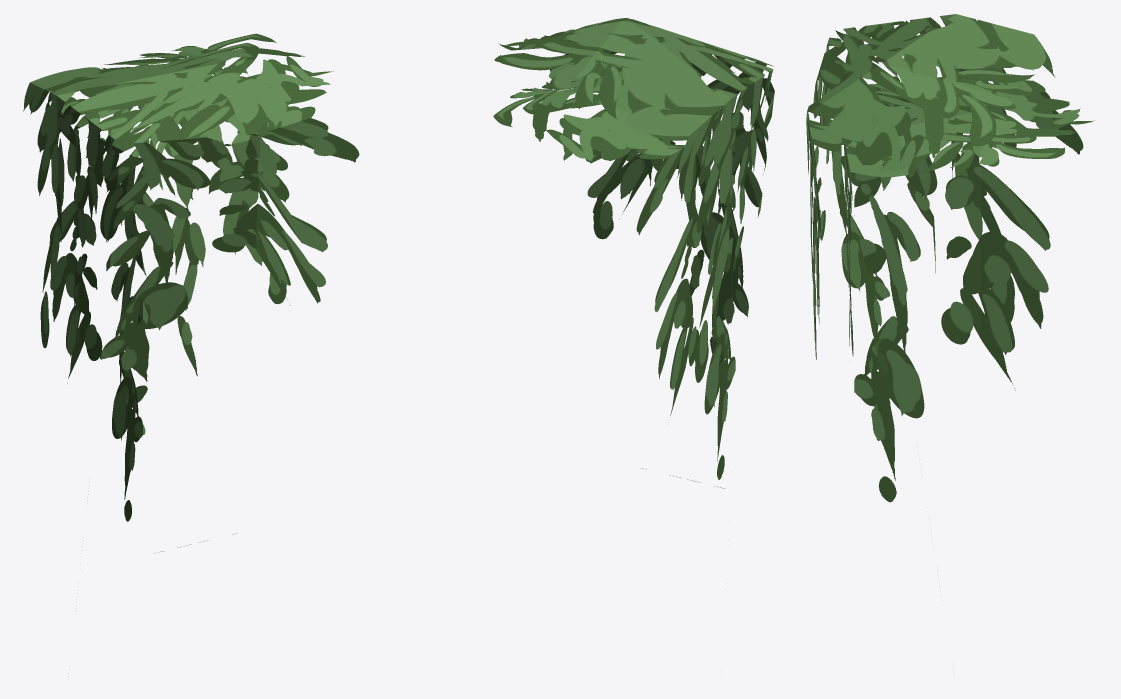
File: vine 5.fbx
3 views of the same model, side by side, from view 1: azimuth 30°, elevation 25°; view 2: azimuth 150°, elevation 25°; view 3: azimuth 270°, elevation 25° (orthographic). The views are drawn at different scales.
Parts seen in each view (by area): view 1: Plane.036, Plane.034; view 2: Plane.036, Plane.034; view 3: Plane.034, Plane.036.
Part boxes in pixels (x1=…): Plane.036: x1=23, y1=33, x2=359, y2=404; Plane.034: x1=39, y1=48, x2=302, y2=553; Plane.036: x1=494, y1=18, x2=774, y2=382; Plane.034: x1=493, y1=62, x2=735, y2=488; Plane.034: x1=844, y1=78, x2=1094, y2=502; Plane.036: x1=806, y1=14, x2=1055, y2=373.
Bounding box in the file's own units: 87.86 × 191 × 75.3.
1 material, 1 textured.
